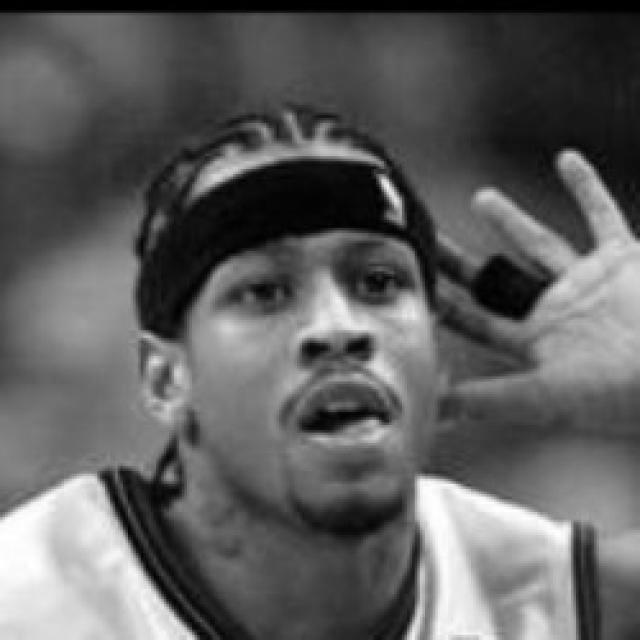real: (151, 214, 447, 528), (206, 251, 413, 318)
